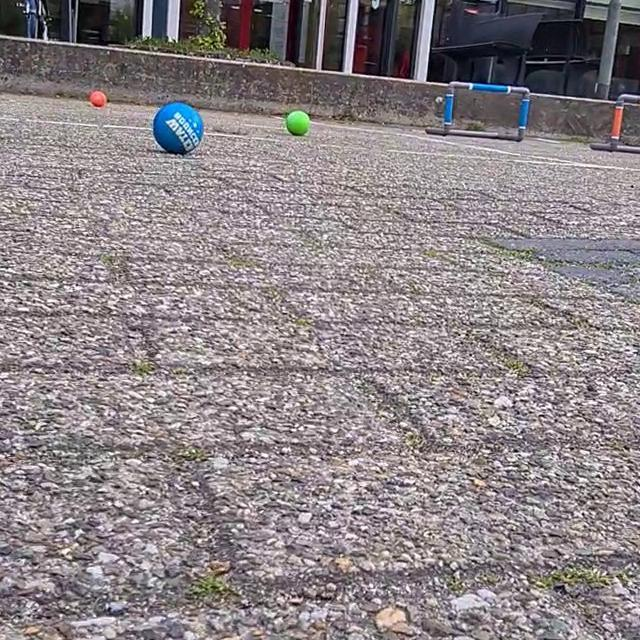ball: (286, 108, 310, 137)
